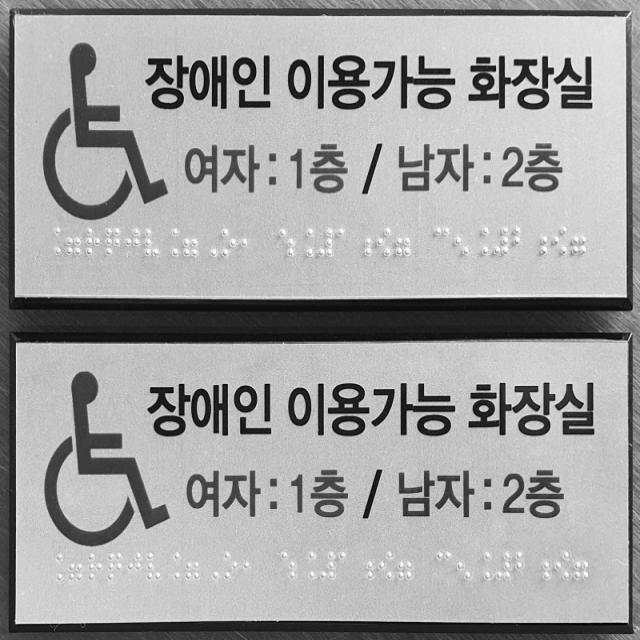braiile: (221, 228, 237, 257), (279, 228, 295, 257), (513, 226, 529, 255), (552, 226, 568, 255), (144, 227, 159, 257), (318, 227, 333, 257), (533, 226, 548, 256), (572, 225, 587, 255), (395, 228, 411, 256), (494, 226, 509, 255), (555, 551, 570, 580), (105, 228, 121, 255), (47, 227, 62, 255), (203, 228, 218, 256), (241, 228, 255, 258), (376, 228, 391, 256), (454, 227, 469, 255), (339, 551, 354, 579), (456, 552, 471, 580), (496, 551, 511, 579), (574, 551, 589, 579), (126, 227, 140, 256), (300, 228, 314, 257), (320, 551, 334, 580), (66, 228, 81, 255), (183, 229, 198, 256), (88, 553, 103, 580), (86, 227, 100, 255), (338, 228, 352, 256), (435, 227, 449, 255), (128, 552, 142, 580), (148, 552, 162, 580), (302, 551, 316, 579), (398, 551, 412, 579), (437, 551, 451, 579), (516, 552, 530, 580), (536, 552, 550, 580), (185, 552, 200, 578), (358, 229, 372, 256), (282, 551, 296, 578), (165, 228, 178, 257), (476, 227, 489, 255), (68, 554, 82, 580), (244, 552, 257, 580), (360, 552, 374, 578), (379, 551, 392, 579), (109, 553, 122, 580), (225, 552, 238, 578), (50, 553, 62, 581), (478, 552, 490, 580), (206, 552, 218, 578), (168, 552, 179, 578)
